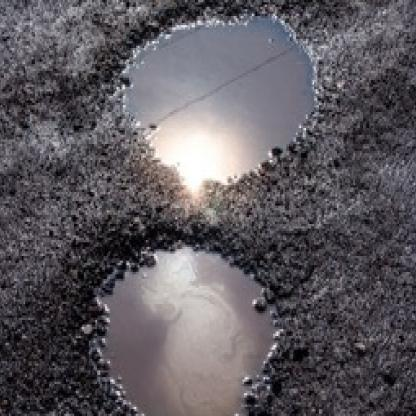pothole: (99, 0, 337, 194), (71, 219, 294, 416)
